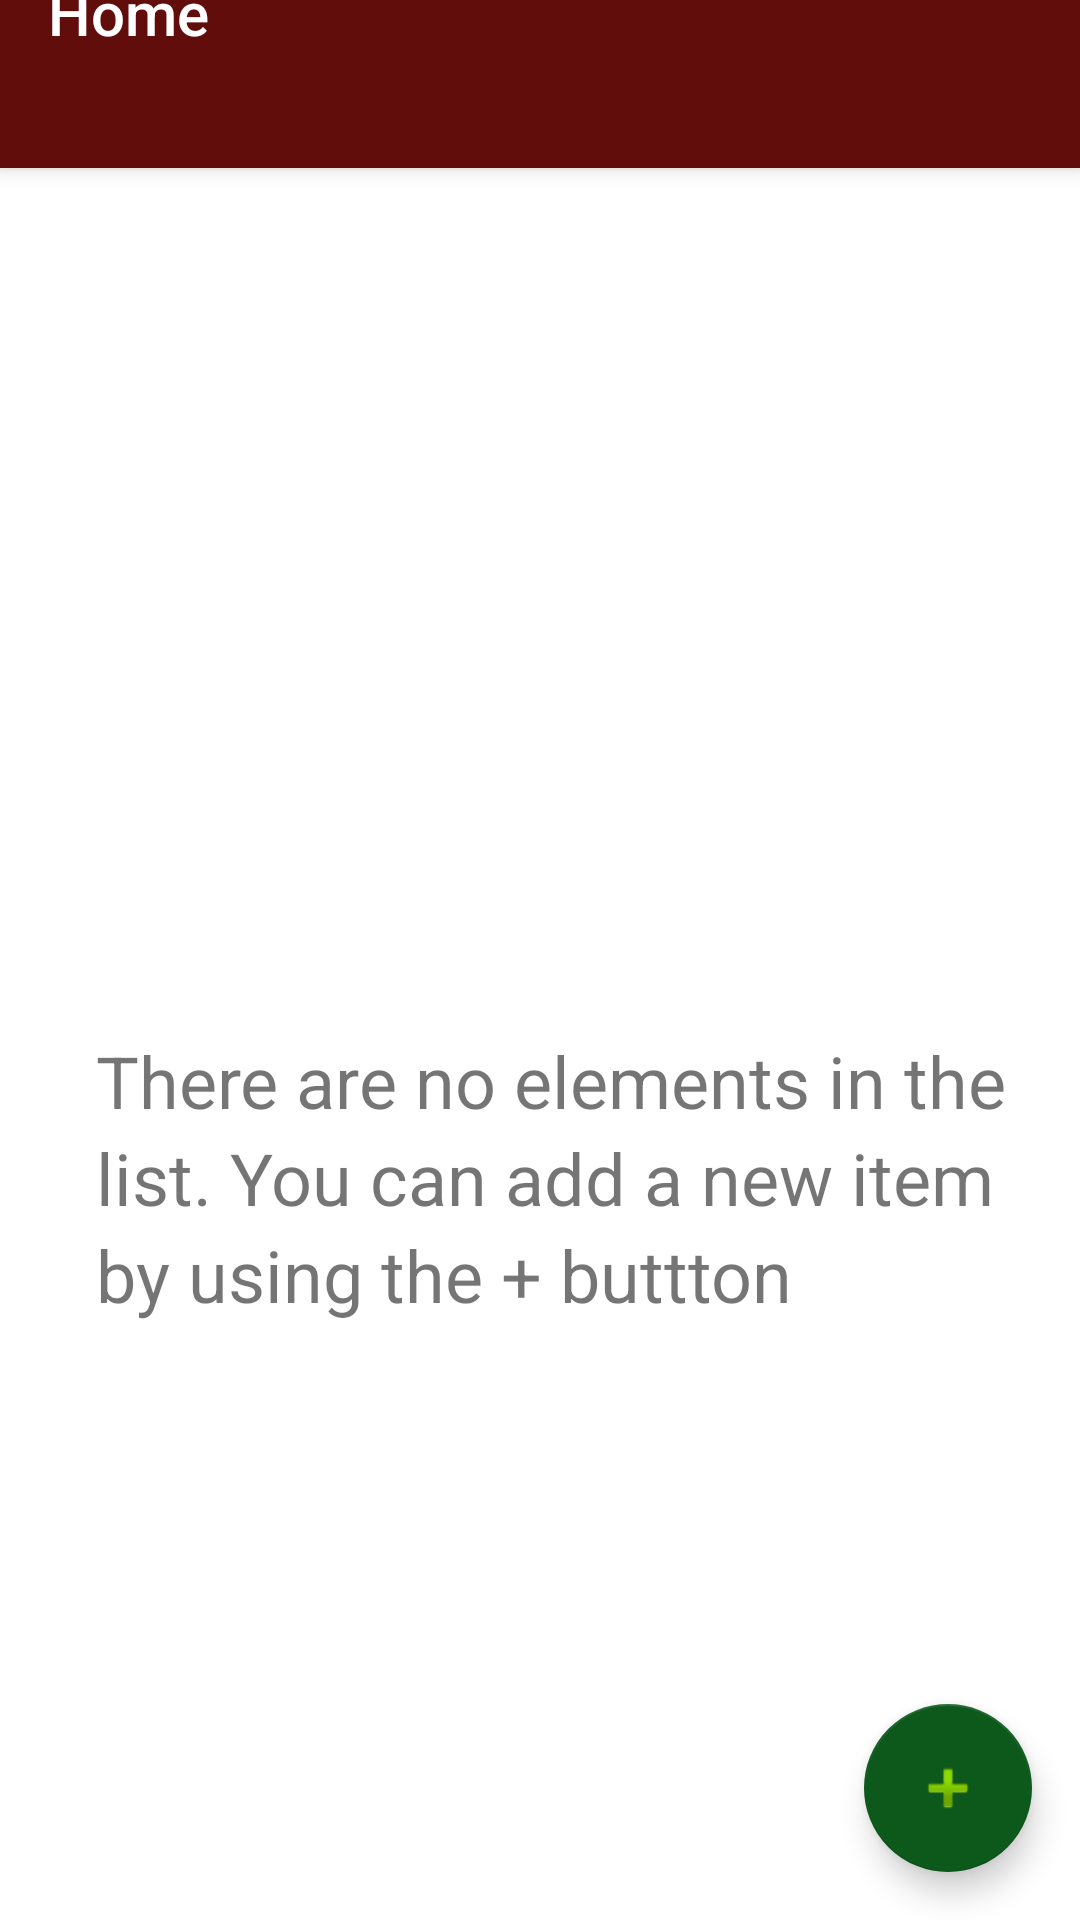

Locate icon controls on the screen. Image size 1080px x 1920px, boxes as bbox(x1, y1, x2, y2).
add item: bbox(864, 1704, 1032, 1872)
